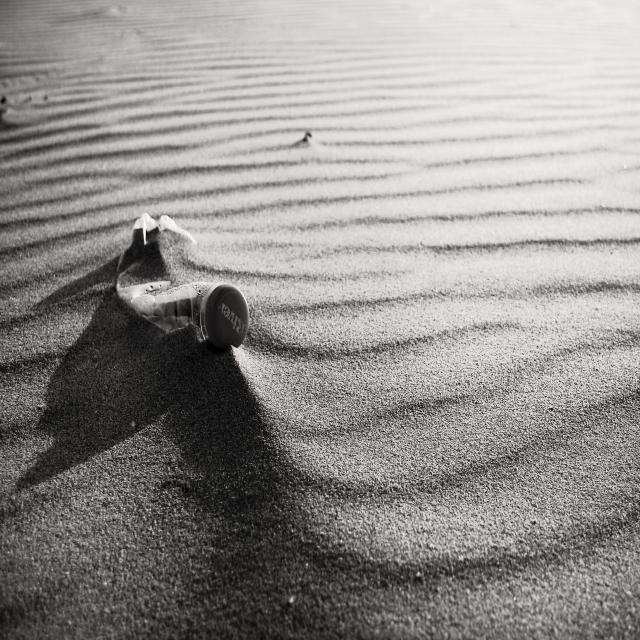plastic: (158, 291, 242, 348)
